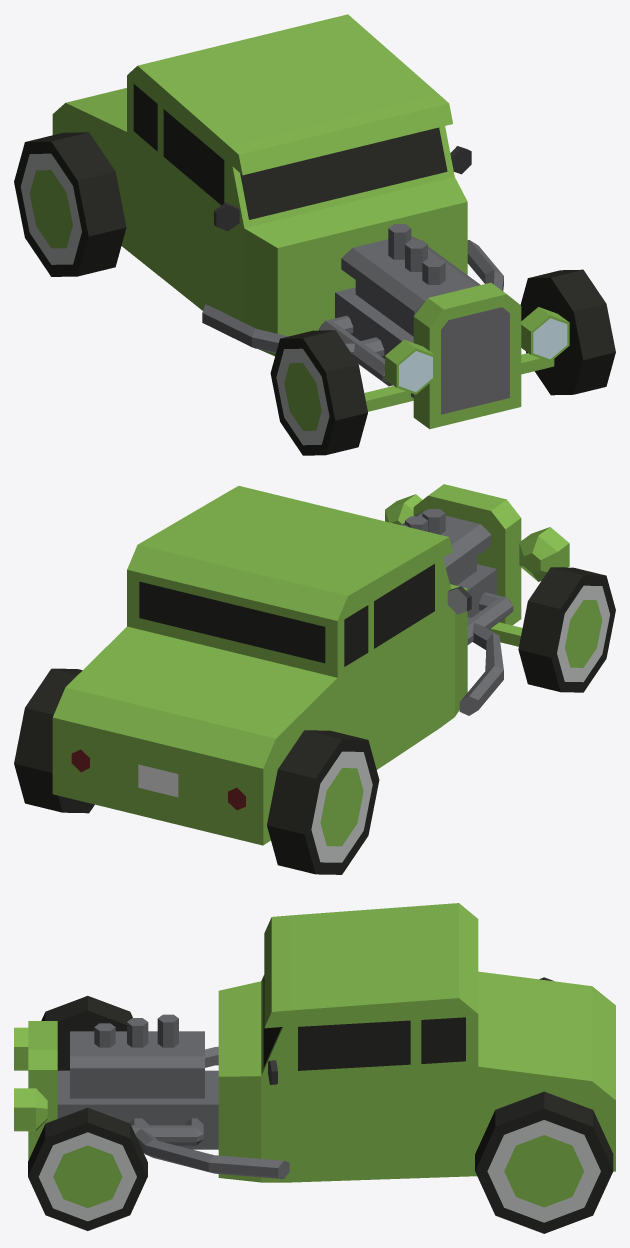
The model's file is Veh_HotRod_Green.obj.
3 views of the same model, one above another, from view 1: azimuth 30°, elevation 25°; view 2: azimuth 150°, elevation 25°; view 3: azimuth 270°, elevation 25° (orthographic). The views are drawn at different scales.
Bounding box in the file's own units: 1.21 × 0.9391 × 2.35.
